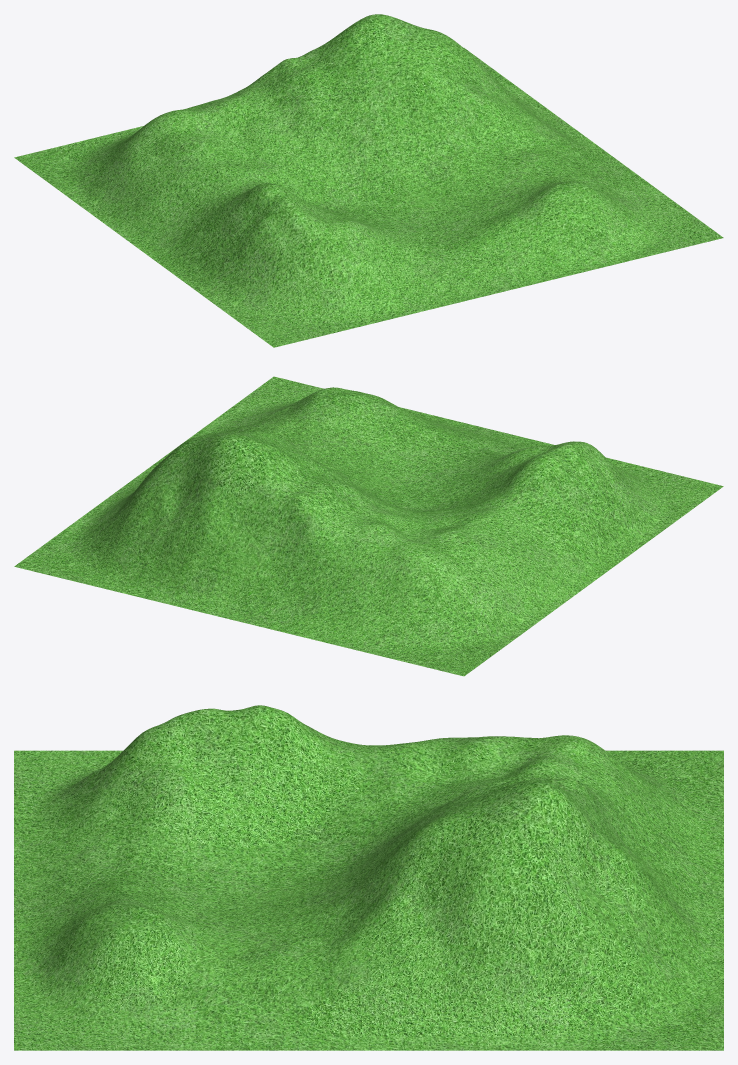
The model's file is terreno colmuseo0.2.fbx.
The picture shows the model from 3 angles, top to bottom: view 1: azimuth 30°, elevation 25°; view 2: azimuth 150°, elevation 25°; view 3: azimuth 270°, elevation 25°; orthographic projection. The views are drawn at different scales.
Visible parts, largest first — view 1: Landscape; view 2: Landscape; view 3: Landscape.
Boxes of the visible parts, <box> form: Landscape: <box>14,14,723,347</box>; Landscape: <box>14,376,723,676</box>; Landscape: <box>14,705,723,1050</box>.
Size of the model in its own units: 80000 by 20000 by 80000.
